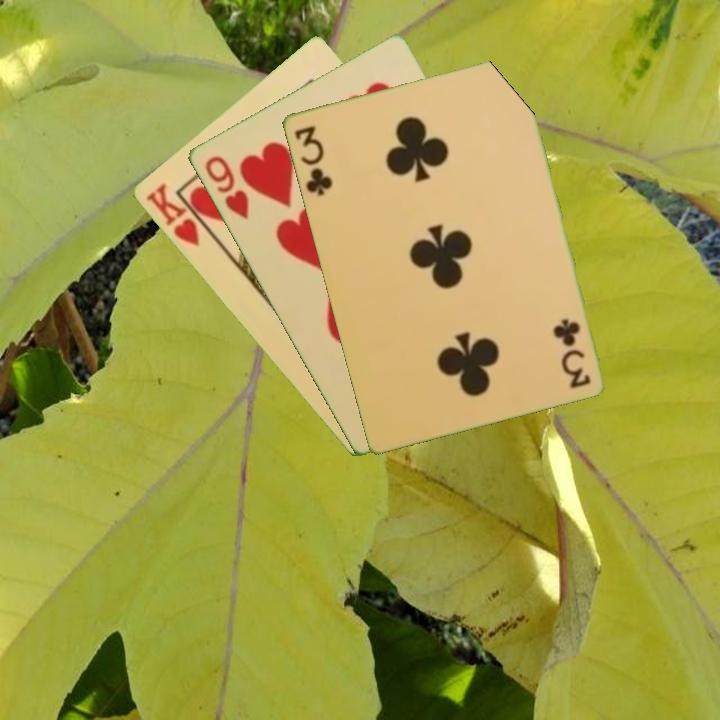3c: (290, 122, 335, 198), (552, 314, 593, 391)
9h: (200, 152, 251, 223)
Kh: (141, 179, 216, 250)
